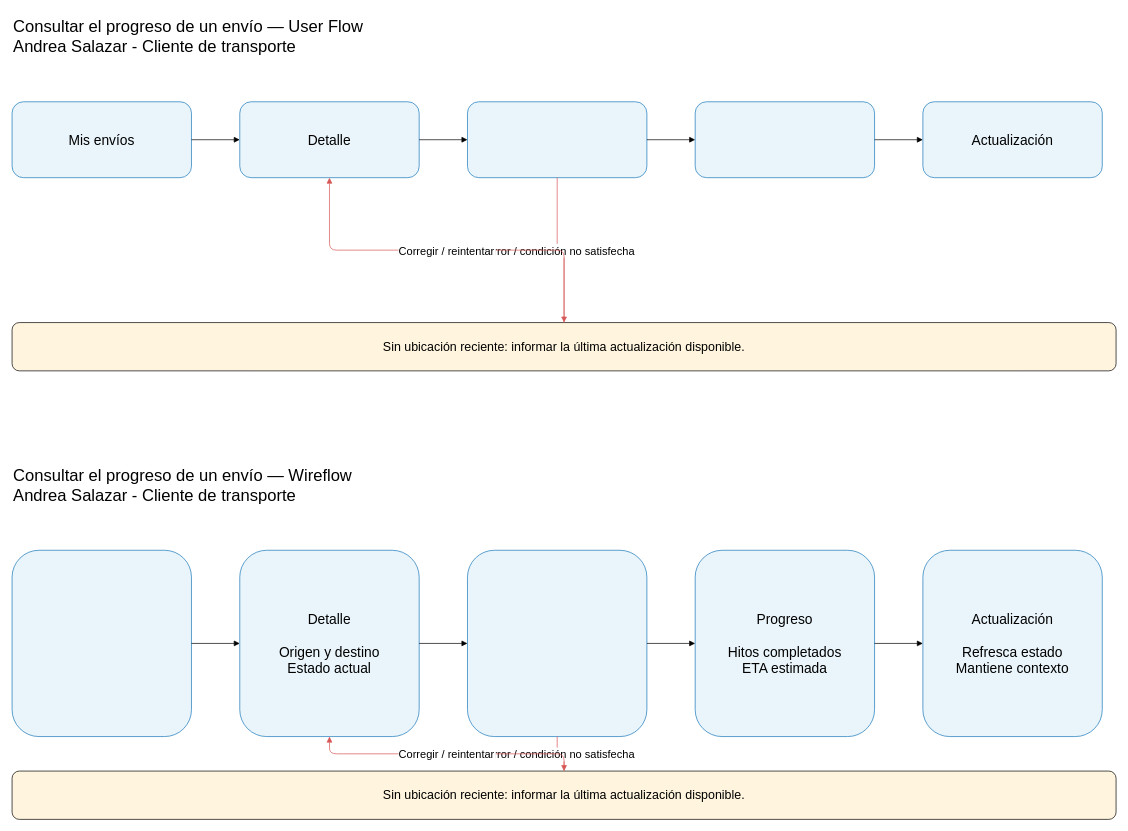
Image size: 1128x831. Some labels were removed from this diagram. The centre of each missing label's shape, as x and y in pixels:
"Mis envíos Lista autorizada Busca por código" belongs at [101,643].
"Progreso" belongs at [784,139].
"Seguimiento" belongs at [557,139].
"Seguimiento Mapa y recorrido Última posición" belongs at [557,643].
